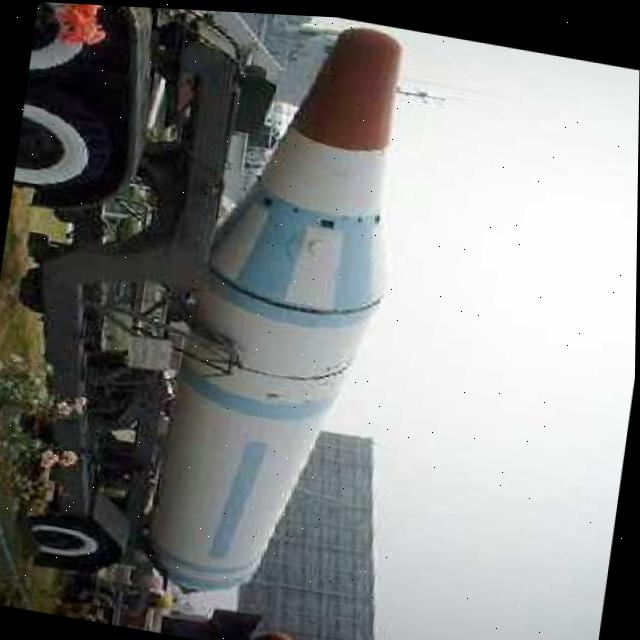missile: (132, 6, 423, 610)
